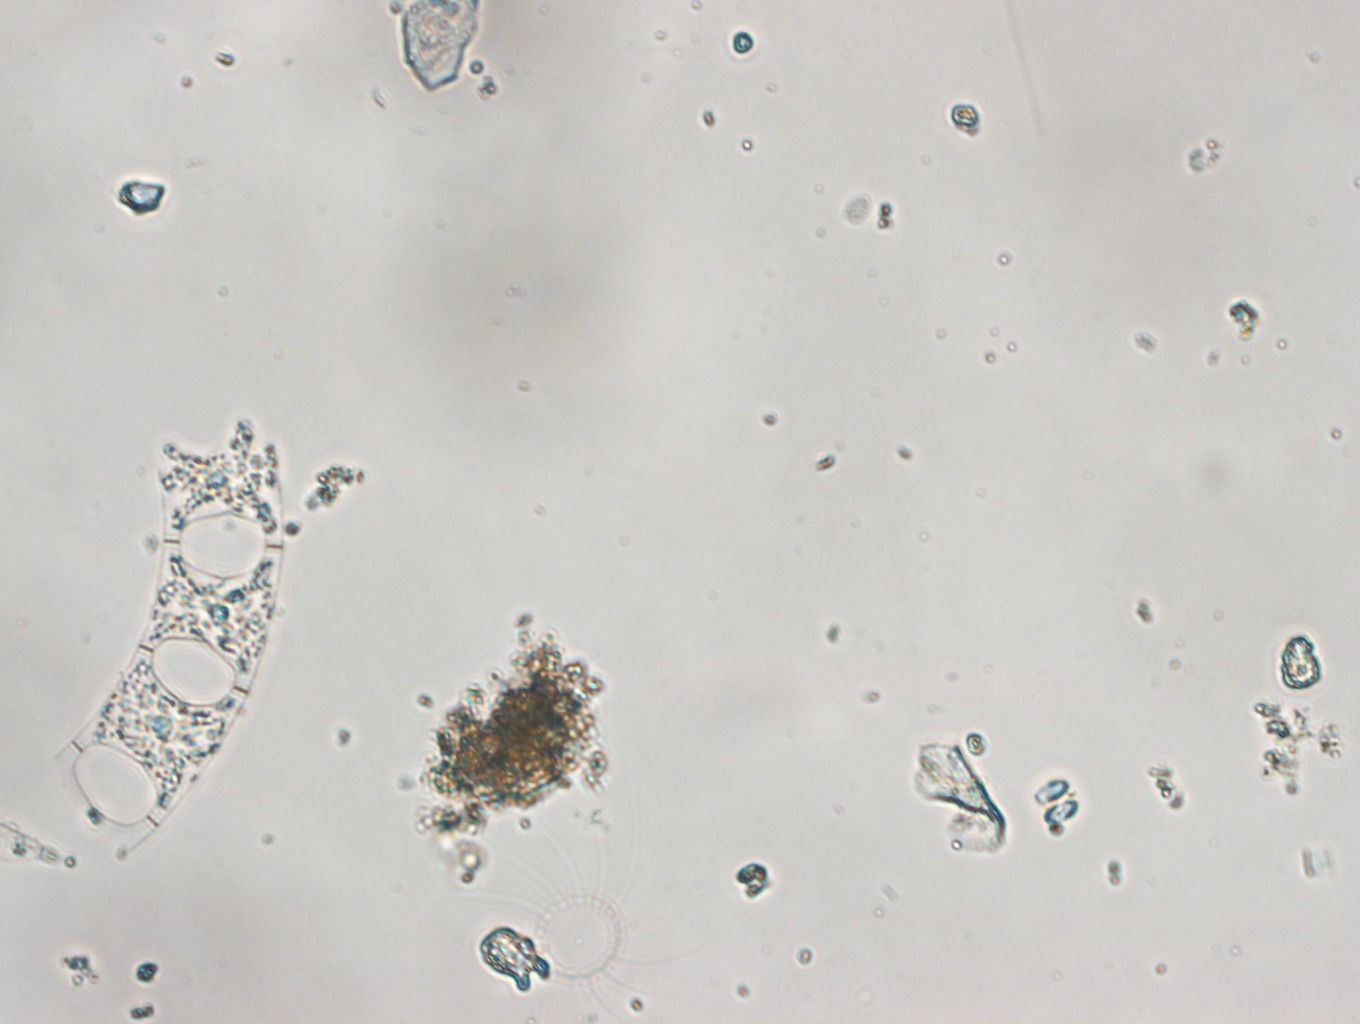eucampia: (72, 422, 288, 851)
